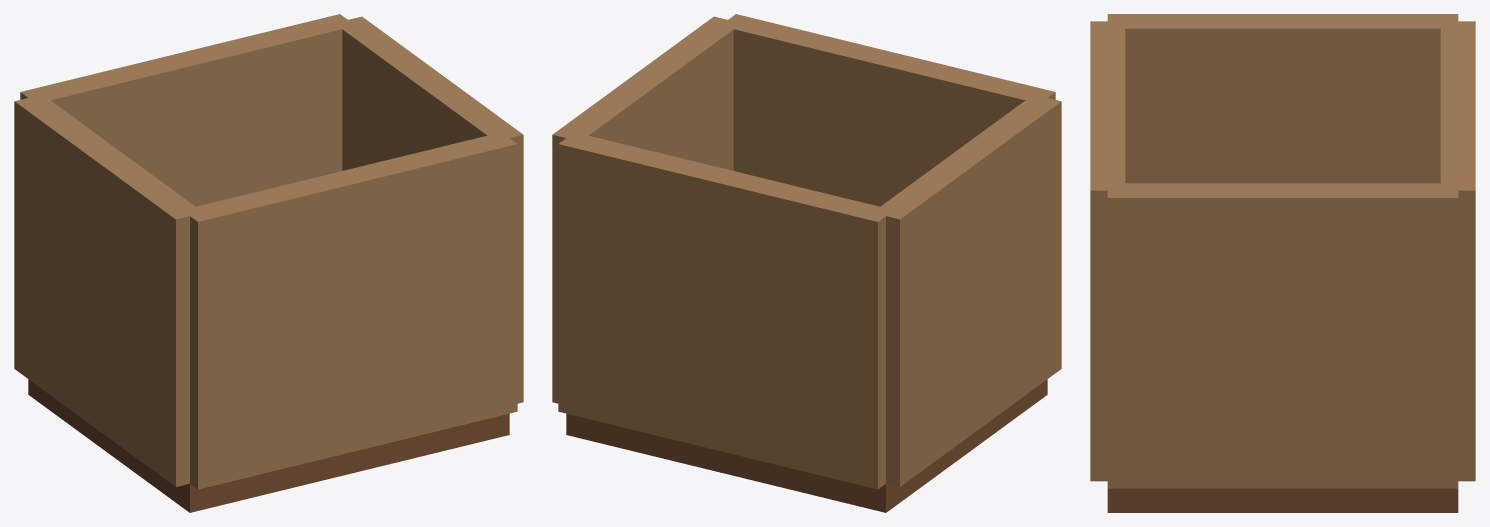
The model's file is open_crate.glb.
The picture shows the model from 3 angles, left to right: view 1: azimuth 30°, elevation 25°; view 2: azimuth 150°, elevation 25°; view 3: azimuth 270°, elevation 25°; orthographic projection. The views are drawn at different scales.
Parts seen in each view (by area): view 1: open_crate; view 2: open_crate; view 3: open_crate.
Boxes of the visible parts, x1=… form: open_crate: x1=14, y1=14, x2=523, y2=512; open_crate: x1=552, y1=14, x2=1061, y2=512; open_crate: x1=1090, y1=14, x2=1475, y2=512.
Bounding box in the file's own units: 0.87 × 0.71 × 0.77.
